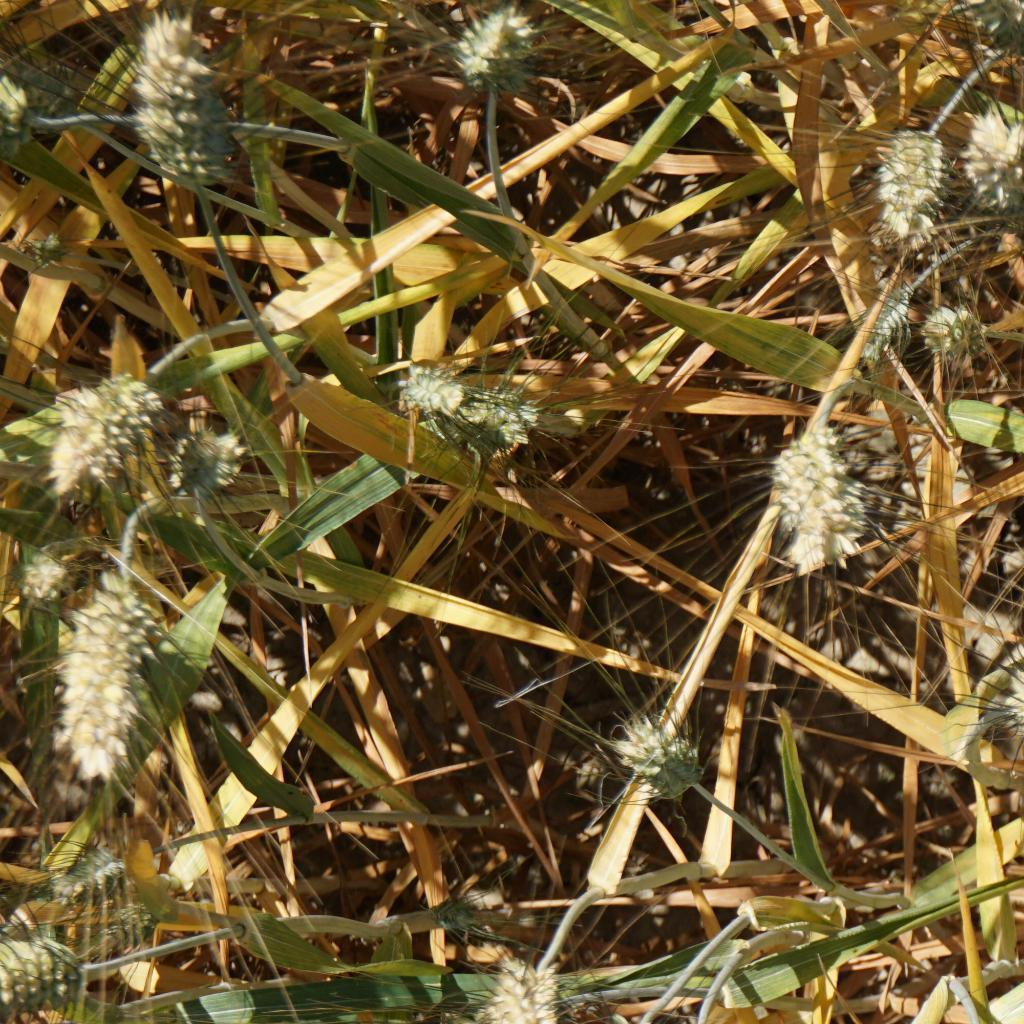0-0: (38, 578, 160, 776), (116, 10, 243, 187), (766, 425, 878, 581), (389, 357, 528, 455), (526, 531, 633, 640), (48, 374, 144, 494), (437, 11, 538, 104), (867, 119, 934, 240), (0, 922, 90, 1008), (486, 947, 559, 1024), (30, 841, 129, 896), (961, 123, 1024, 200), (610, 726, 696, 781), (178, 431, 251, 491), (919, 304, 986, 365), (852, 290, 909, 353), (960, 0, 1024, 52), (10, 540, 66, 599), (97, 905, 145, 947), (1004, 657, 1024, 739)
